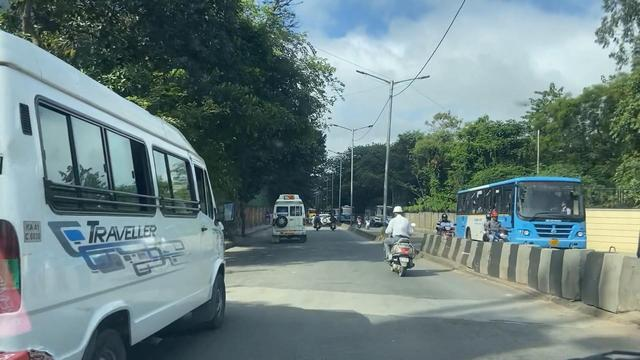HMV: (0, 19, 226, 360), (269, 198, 306, 246)
LMV: (384, 204, 414, 277)
